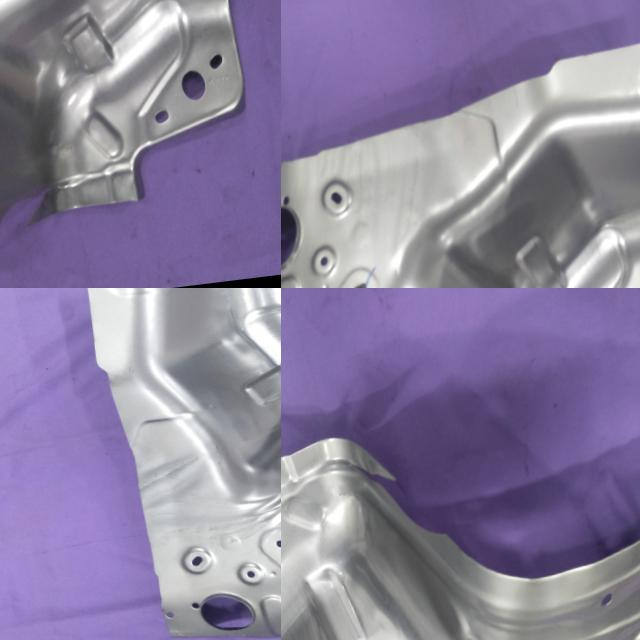Defect: (316, 413, 471, 568), (0, 174, 83, 273)
Healthy: (281, 28, 640, 288)
